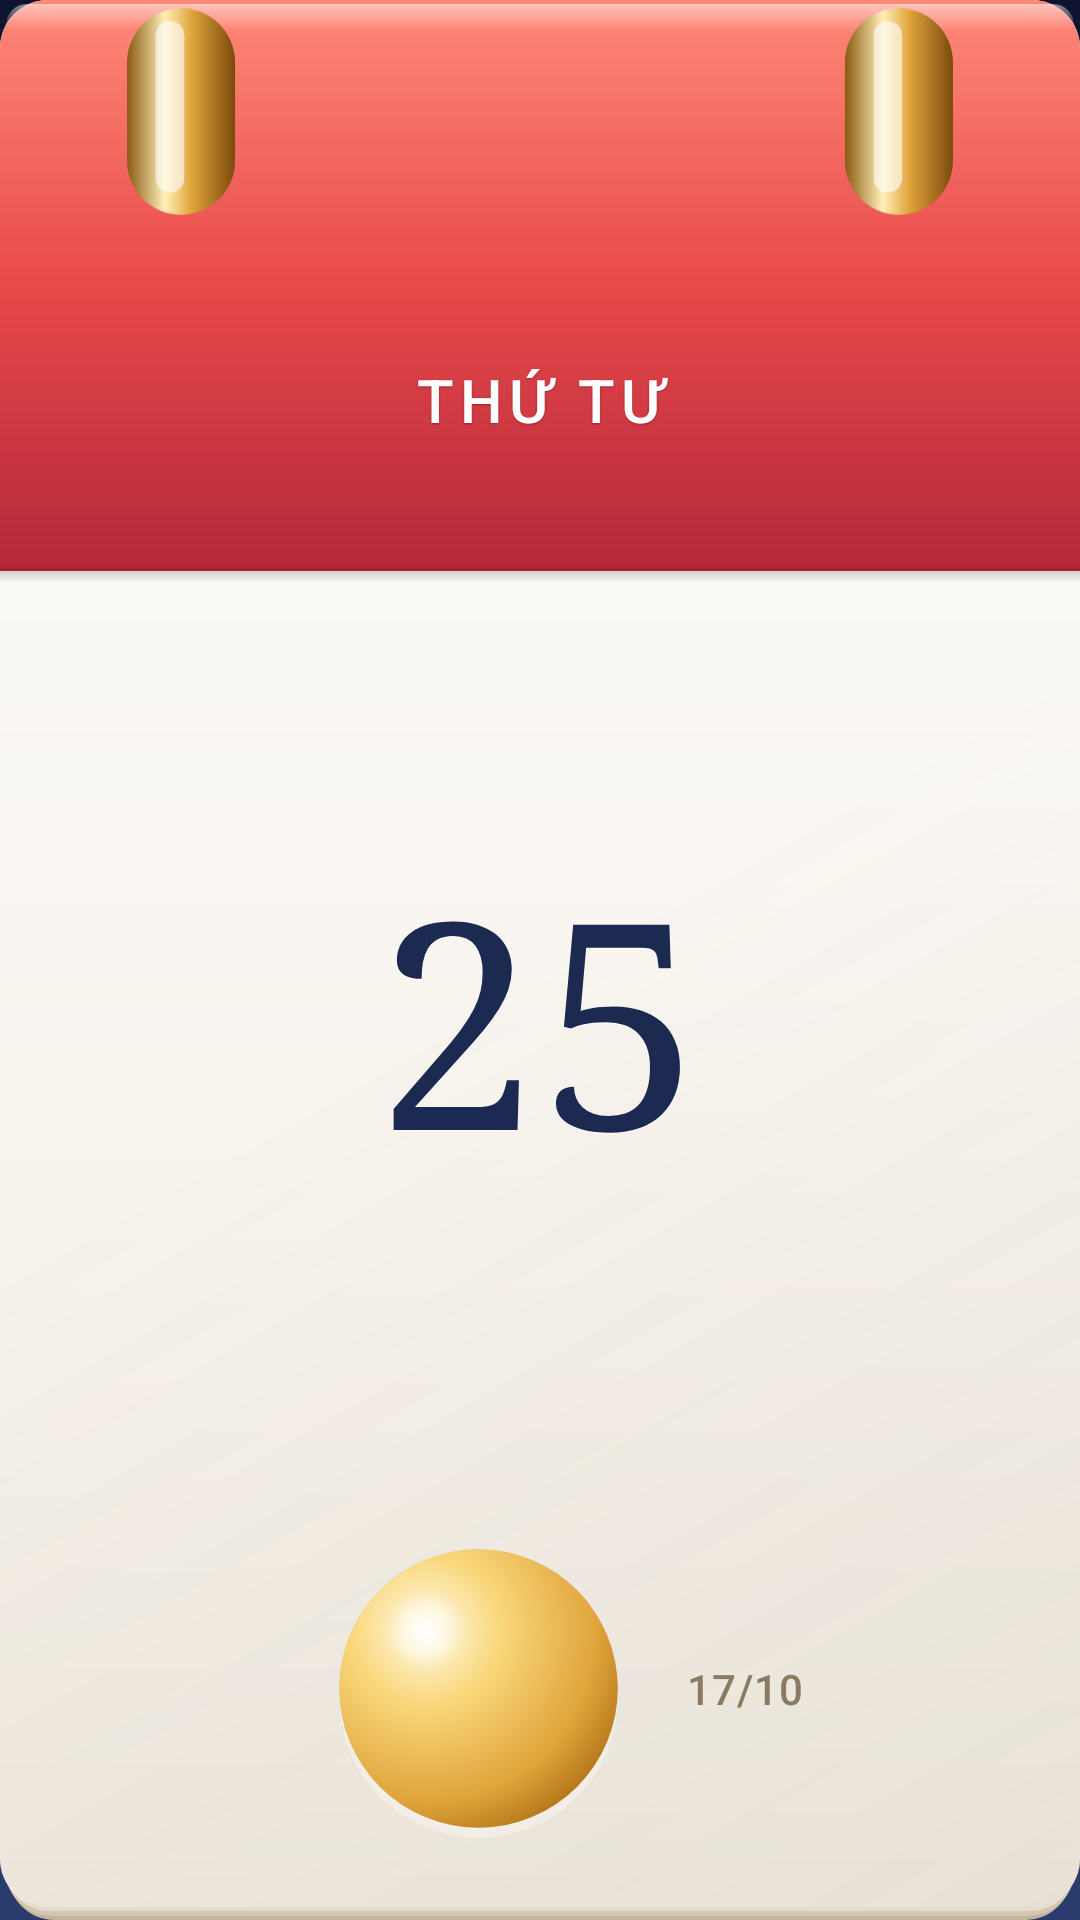

Where to tap for icons on this 1080×1920 app screen, as (x,y):
moonp: (478,1688)
